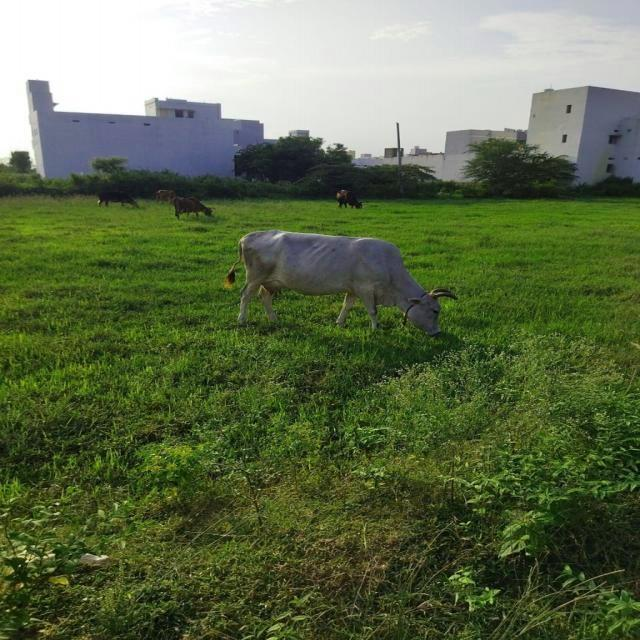cow: (239, 230, 455, 336)
